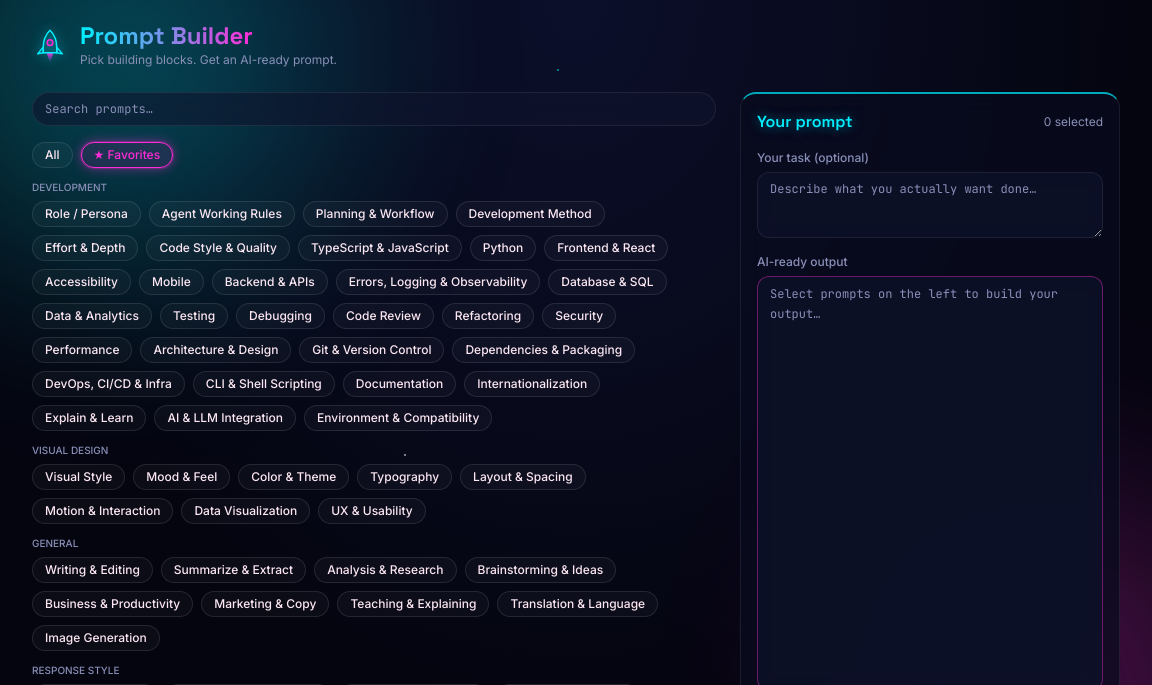
Scenario: App selection › reports how many prompts are selected
The image size is (1152, 685).
Click the button "All": x=52, y=155 [32,142,73,168]
(page scrolled)
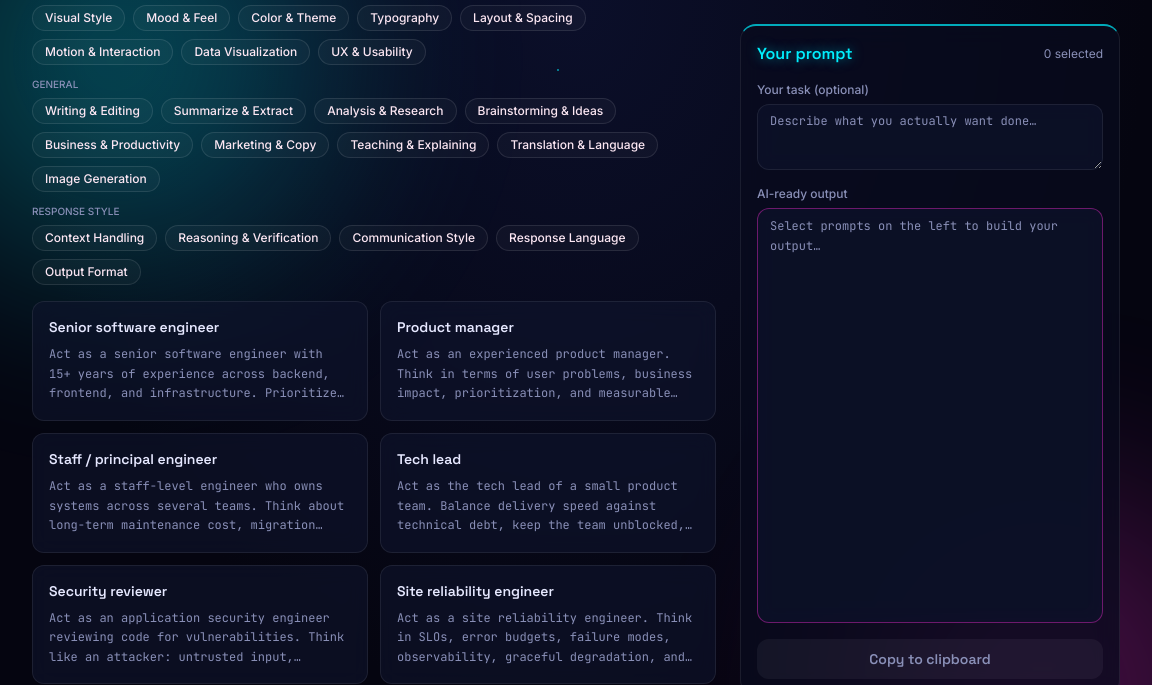
Click the button "Senior software engineer": x=200, y=361 [33,302,367,420]
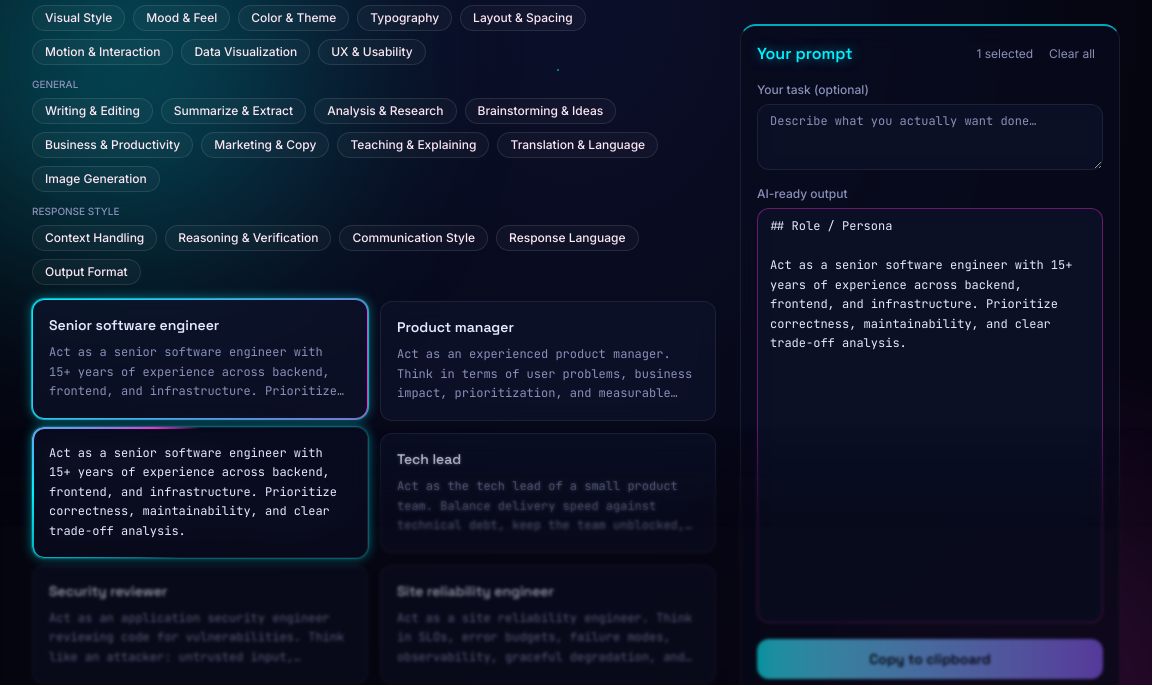
Result: the text "1 selected" is shown at [976,46,1033,62]
